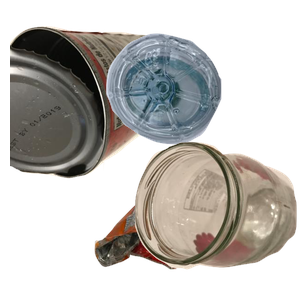glass: (132, 139, 300, 300)
metal: (10, 23, 193, 194)
plastic: (104, 31, 300, 168)
trash: (92, 174, 272, 300)
